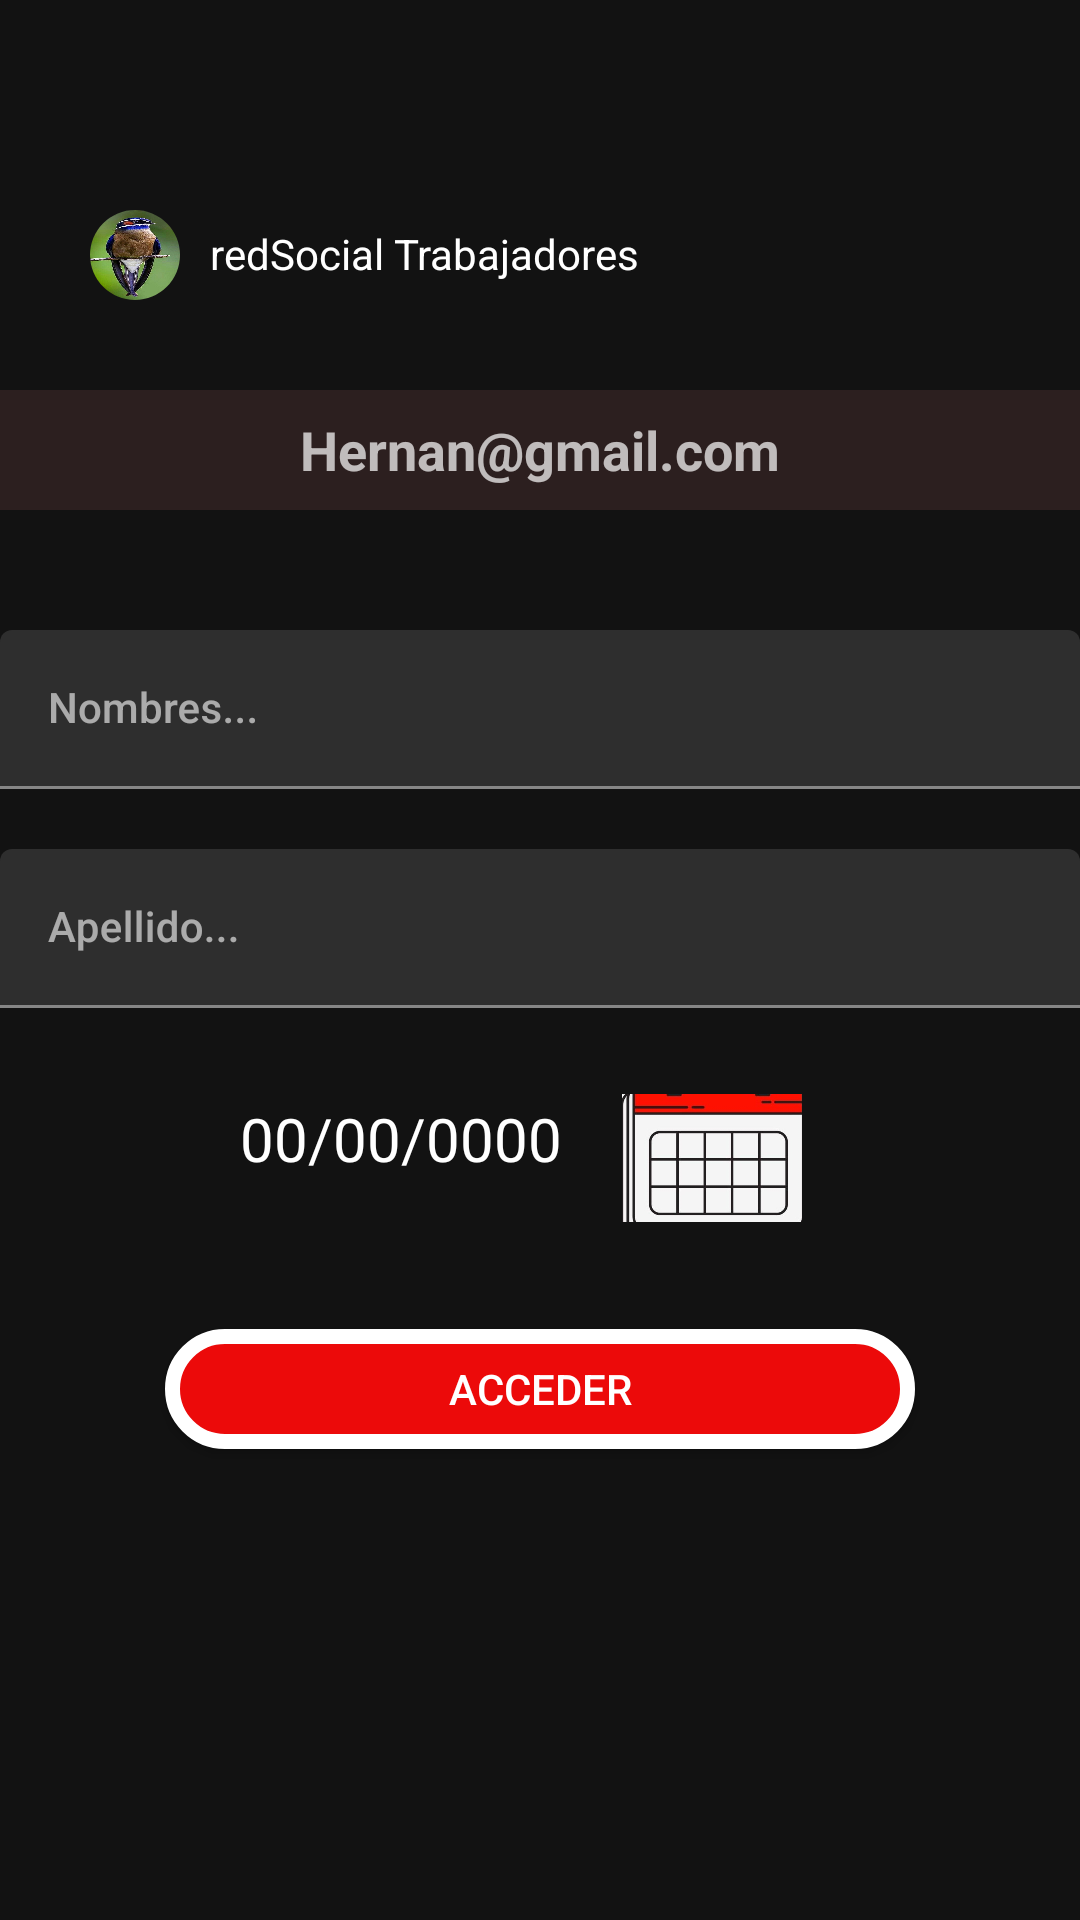

Named icons in this screenshot (1080*1920) and their bounding boxes, BBox(x1, y1, x2, y2):
calendario: BBox(622, 1094, 802, 1222)
pajaro: BBox(90, 210, 180, 300)
